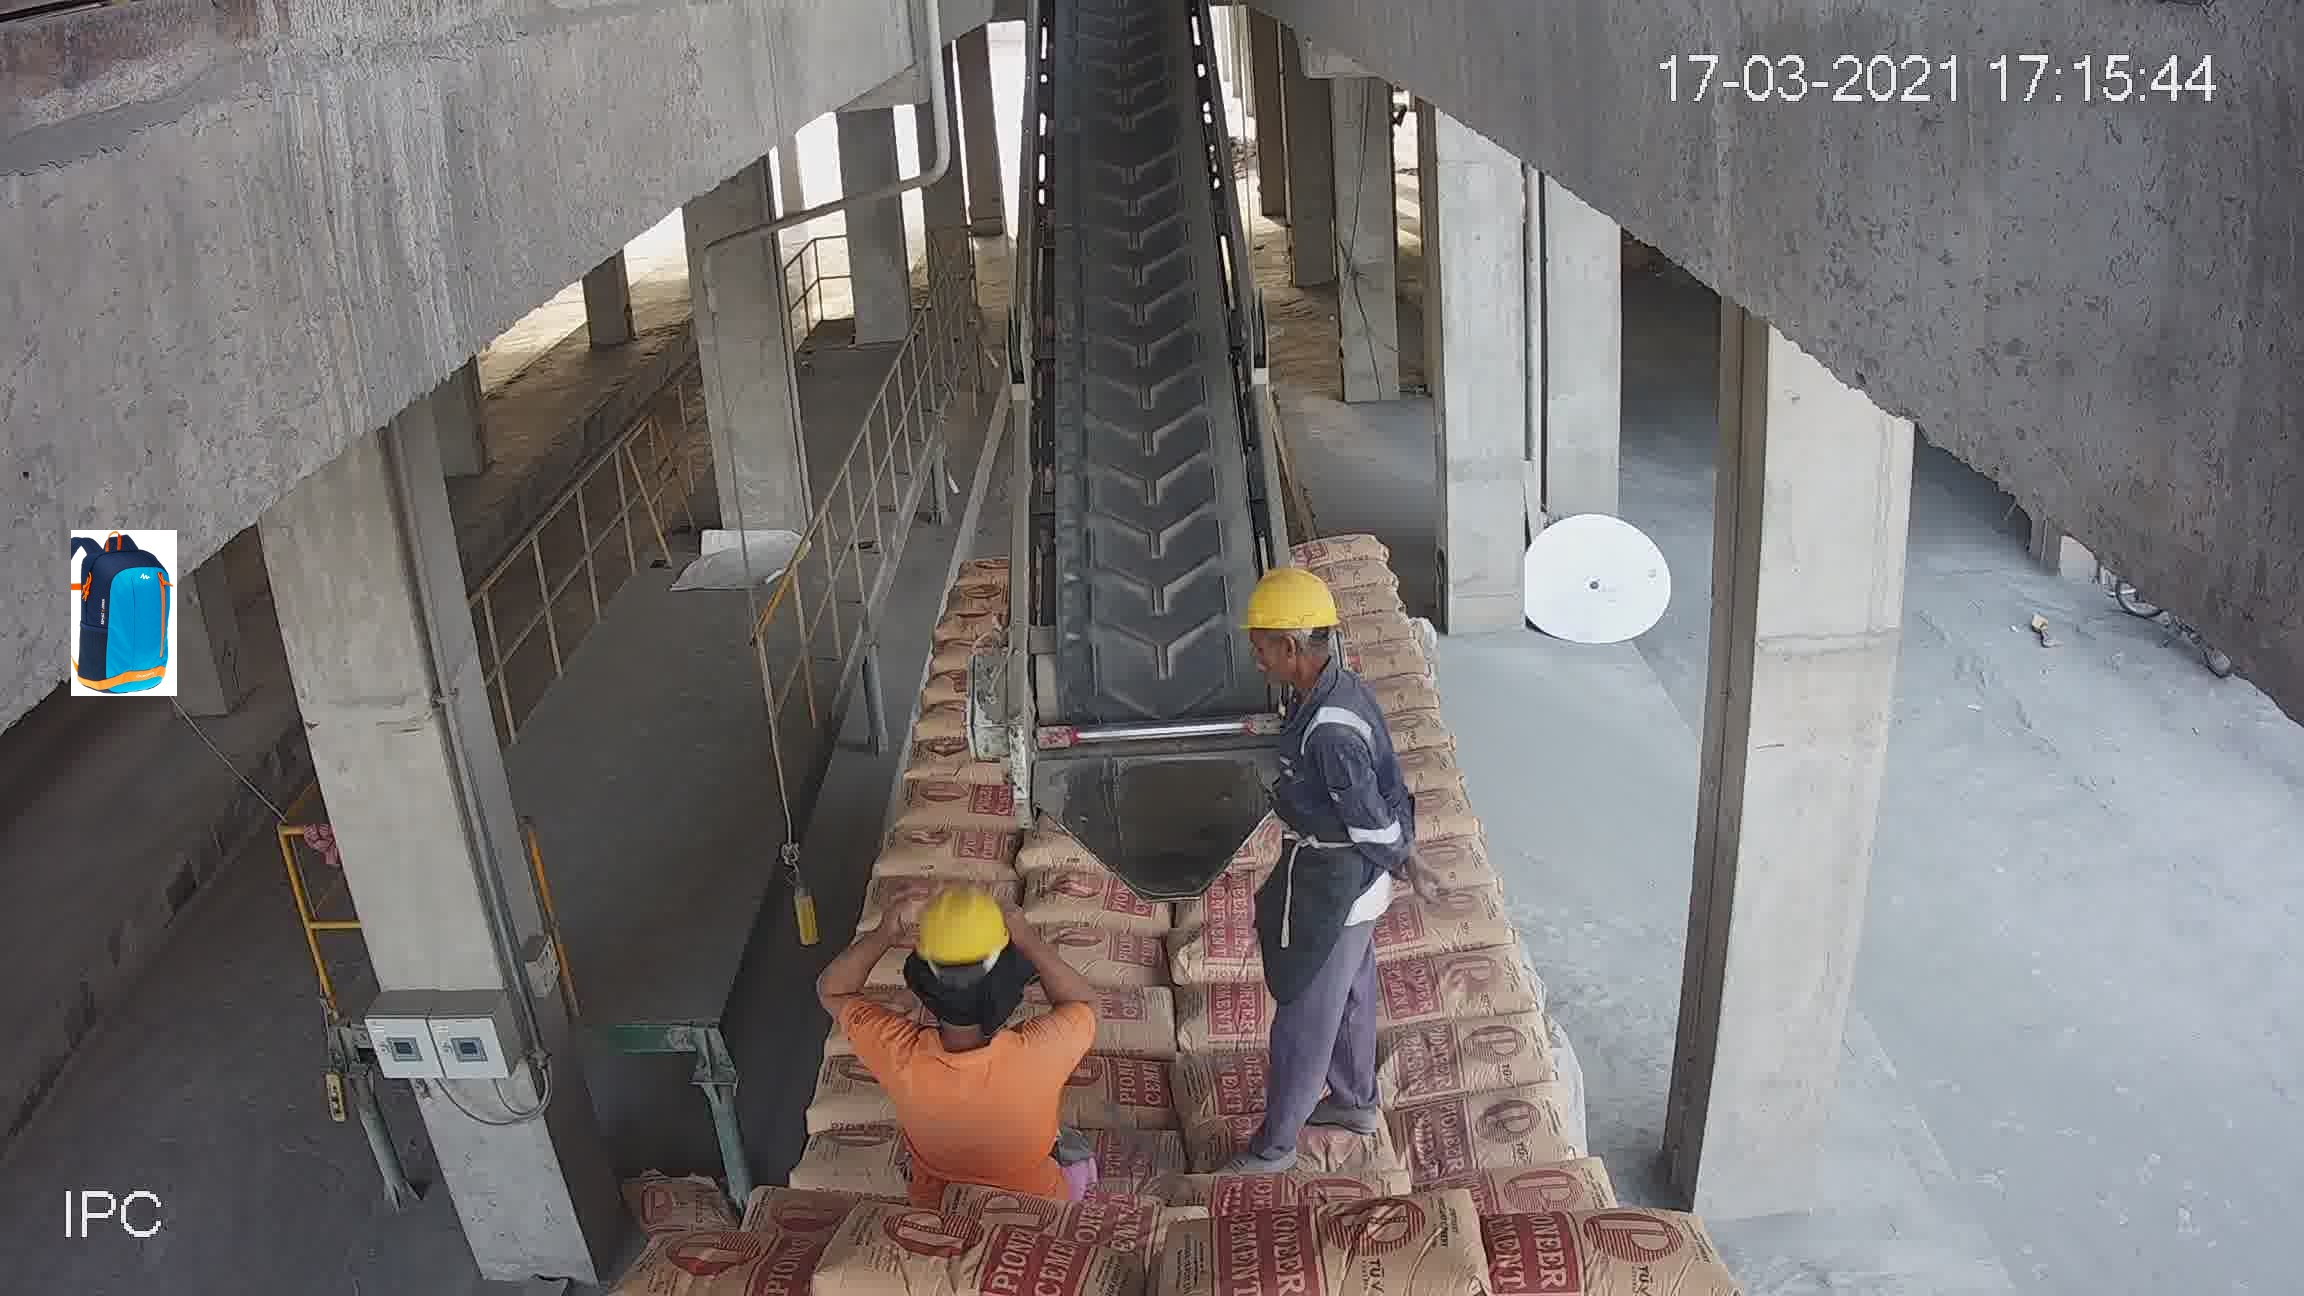bag_h: (1204, 1206, 1530, 1296), (1438, 1201, 1698, 1291), (815, 1222, 1116, 1294), (1413, 1081, 1598, 1176), (1374, 1014, 1554, 1108), (635, 1223, 853, 1294), (1362, 949, 1537, 1033), (1021, 902, 1179, 992), (1370, 889, 1513, 965), (1437, 1163, 1608, 1225), (1177, 1173, 1397, 1220), (869, 826, 1033, 888), (1074, 994, 1225, 1059), (870, 839, 1040, 896), (905, 783, 1022, 836), (1402, 839, 1499, 892), (1291, 543, 1404, 589), (1291, 532, 1396, 573), (1321, 581, 1412, 619)
belt: (1013, 28, 1275, 826)
